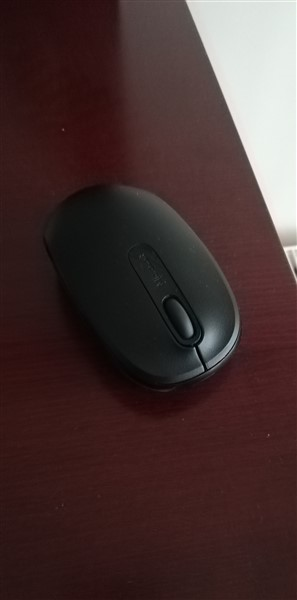mouse: (35, 173, 256, 408)
